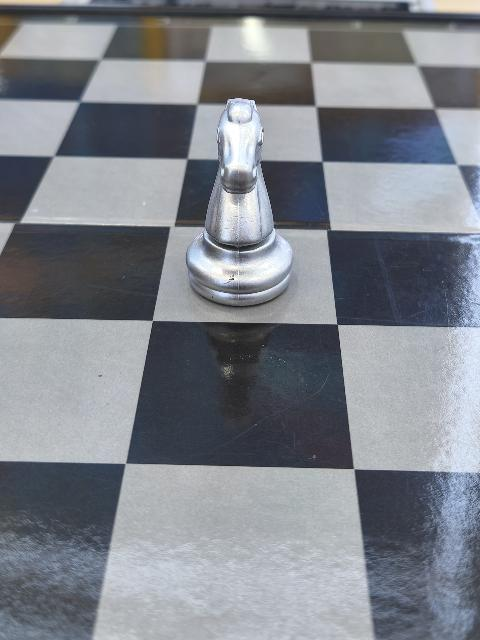white_knight: (184, 100, 296, 310)
